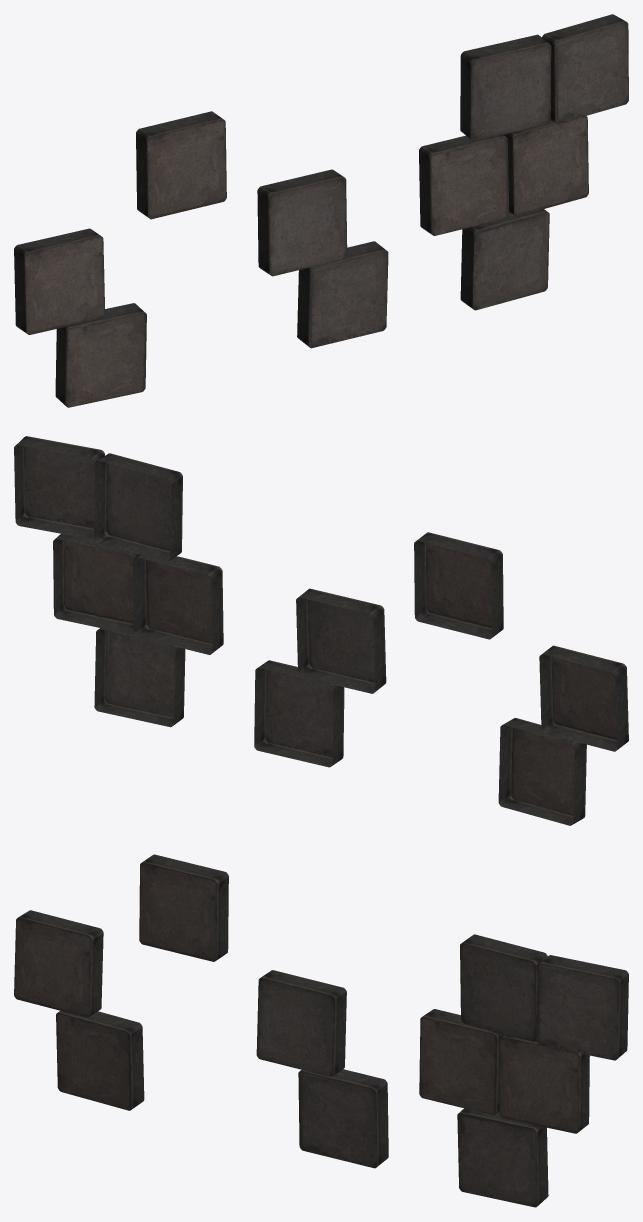
File: hd_dec_UNI_003_PavingDirected_horizontal_02_tinted.glb
3 views of the same model, one above another, from view 1: azimuth 30°, elevation 25°; view 2: azimuth 150°, elevation 25°; view 3: azimuth 330°, elevation 25° (orthographic).
Parts seen in each view (by area): view 1: set_0_group_0; view 2: set_0_group_0; view 3: set_0_group_0.
Boxes of the visible parts, bbox=[...] form: set_0_group_0: bbox=[14, 14, 628, 407]; set_0_group_0: bbox=[14, 436, 628, 825]; set_0_group_0: bbox=[14, 854, 628, 1207].
Bounding box in the file's own units: 3.74 × 1.49 × 0.1804.
Materials: 1 (1 with a texture image).
